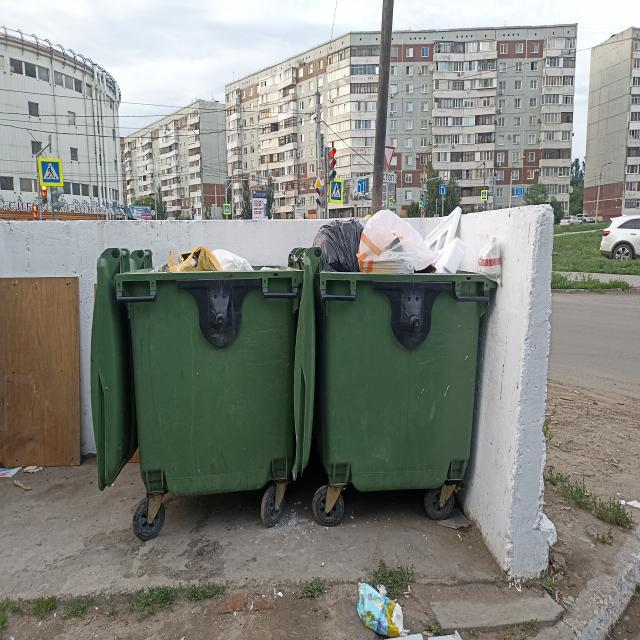bin: (91, 245, 498, 542)
plastic: (0, 277, 81, 477), (313, 206, 466, 274), (357, 582, 424, 640), (149, 246, 280, 274), (477, 236, 501, 286), (428, 628, 463, 640), (13, 480, 31, 490)
